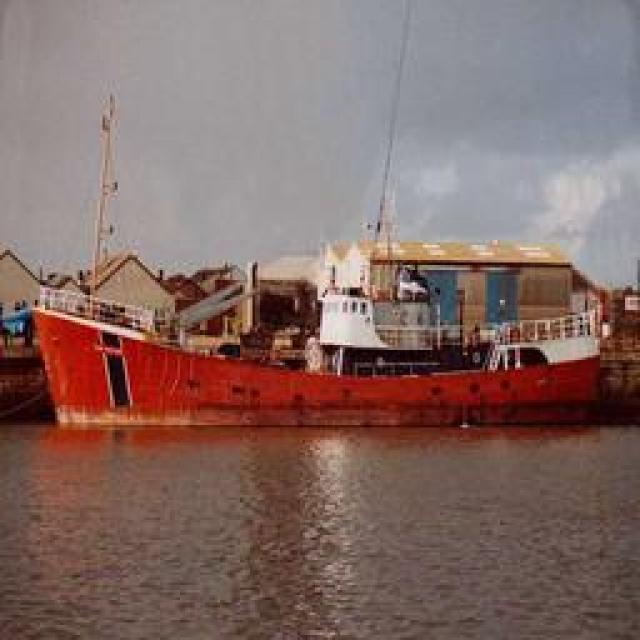ship2: (33, 94, 606, 428)
